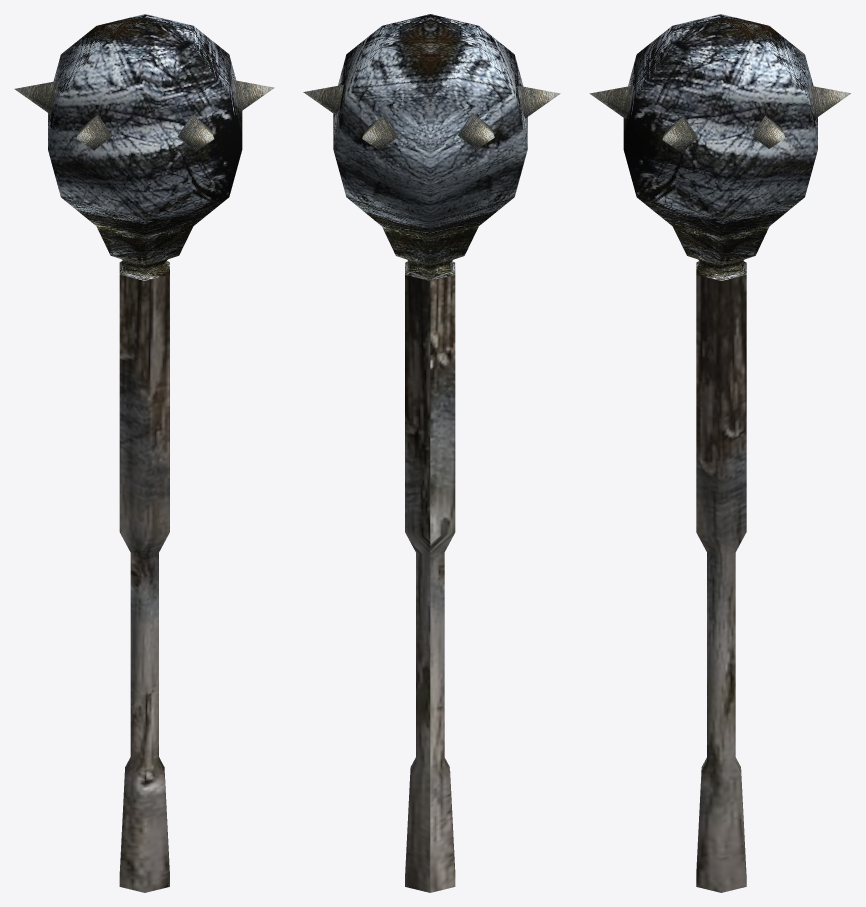
The model's file is weapons_hammer2_h2.glb.
3 renders of one model, left to right at view 1: azimuth 30°, elevation 25°; view 2: azimuth 150°, elevation 25°; view 3: azimuth 270°, elevation 25°, orthographic.
Visible parts, largest first — view 1: hammer2_h2; view 2: hammer2_h2; view 3: hammer2_h2.
Boxes of the visible parts, bbox=[...] form: hammer2_h2: bbox=[14, 14, 274, 892]; hammer2_h2: bbox=[303, 14, 560, 892]; hammer2_h2: bbox=[589, 14, 850, 892].
Size of the model in its own units: 0.1902 by 0.778 by 0.2158.
Materials: 1 (1 with a texture image).
